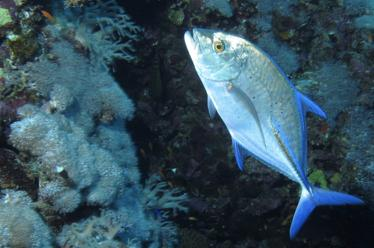Carangidae -Jacks-: (173, 18, 366, 240)
